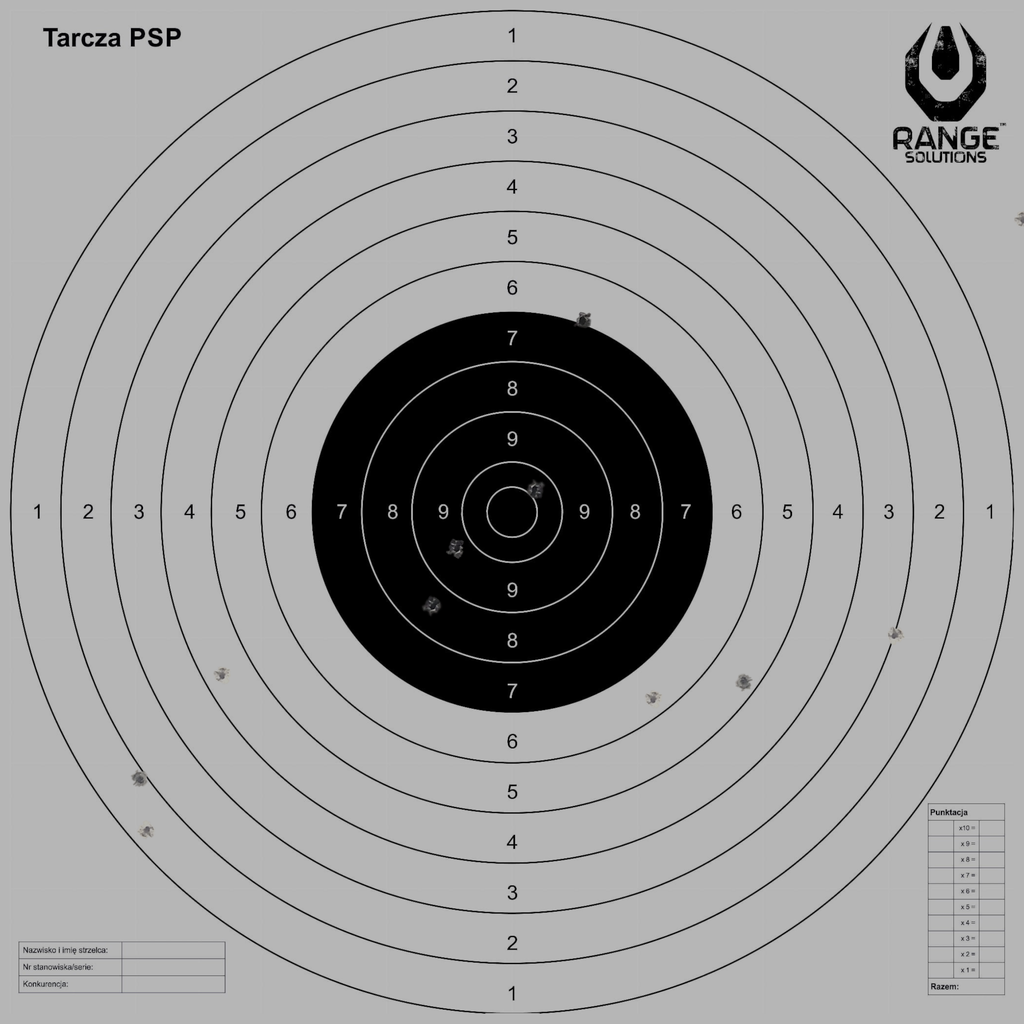0 punktow: (1014, 211, 1024, 229)
1 punkt: (138, 821, 156, 839)
10 punktow: (526, 480, 544, 498)
2 punkty: (131, 770, 149, 789)
3 punkty: (886, 626, 904, 645)
4 punkty: (213, 666, 231, 685)
5 punktow: (735, 672, 753, 691)
6 punktow: (644, 690, 662, 709)
7 punktow: (573, 311, 592, 330)
8 punktow: (423, 597, 442, 616)
9 punktow: (448, 539, 466, 557)
